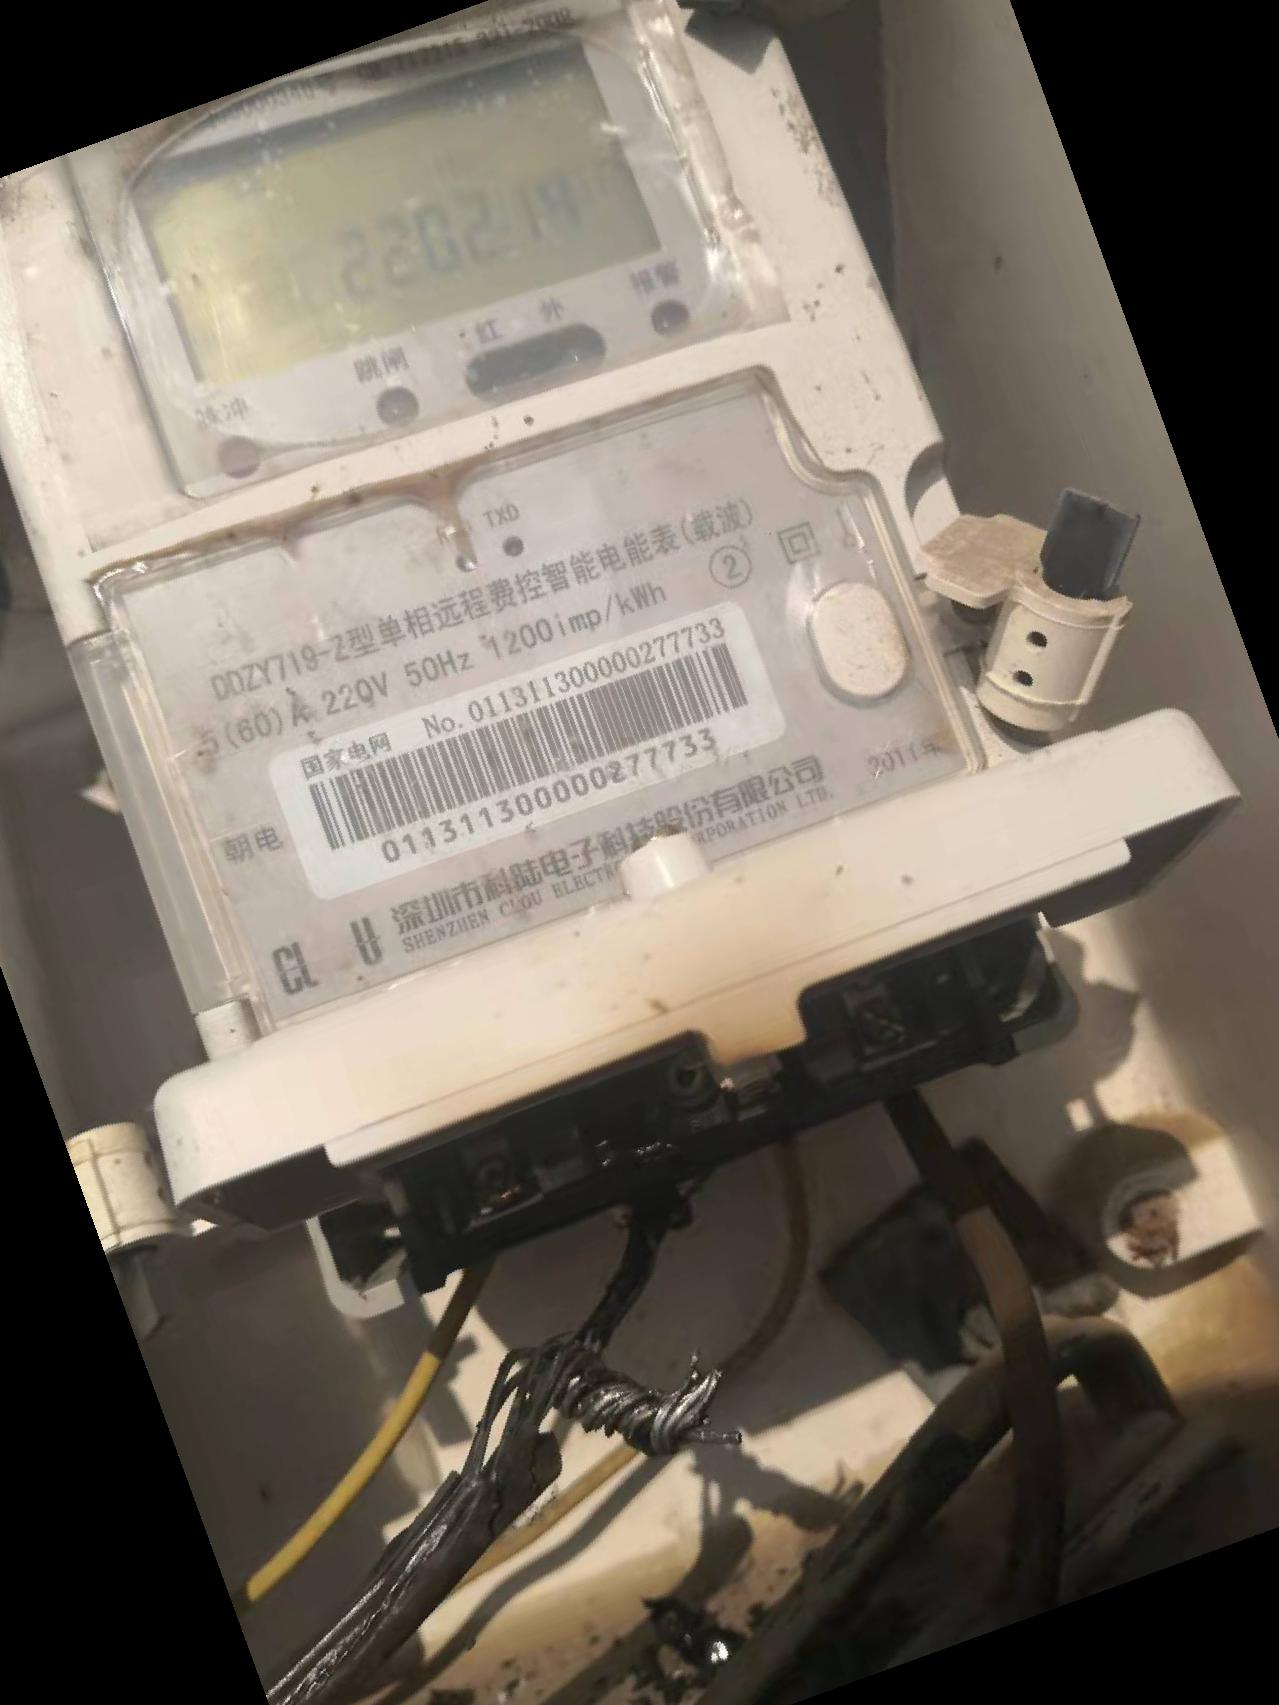digital: (3, 1, 1051, 1048)
